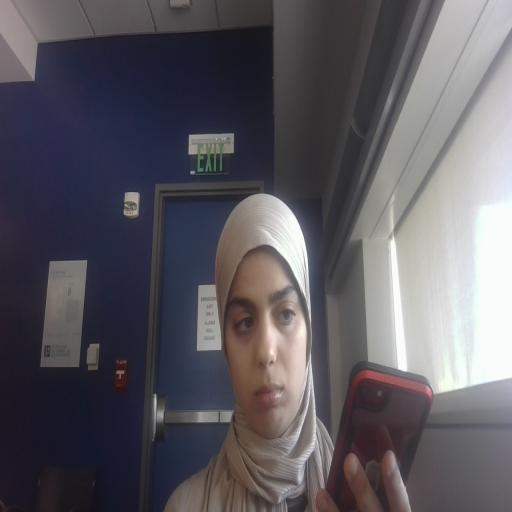phone: (334, 374, 448, 512)
